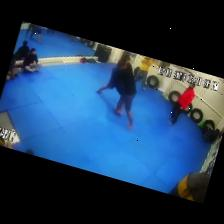person: (114, 55, 136, 129), (170, 83, 195, 125), (96, 68, 123, 95), (135, 57, 153, 90), (23, 49, 41, 72), (6, 55, 21, 80), (16, 41, 30, 60), (25, 24, 36, 38), (34, 26, 42, 43), (6, 141, 12, 148), (71, 35, 75, 44), (47, 29, 55, 33)
